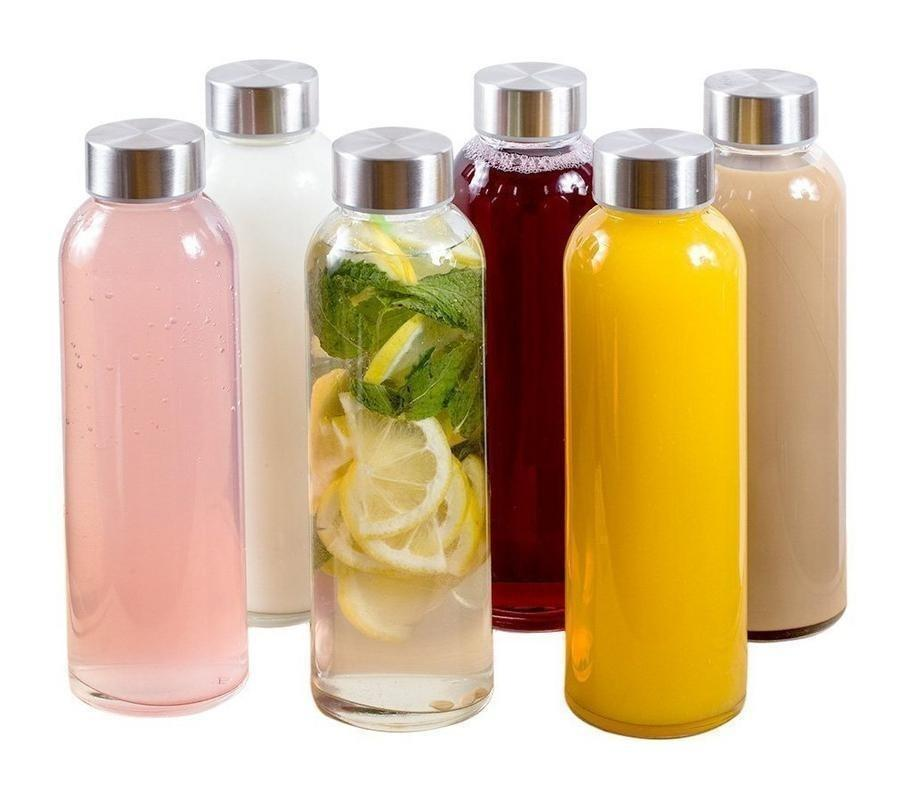gym bottle: (302, 123, 498, 736), (558, 127, 754, 739), (54, 114, 252, 718), (704, 61, 854, 643), (196, 54, 333, 623), (462, 55, 594, 627)
